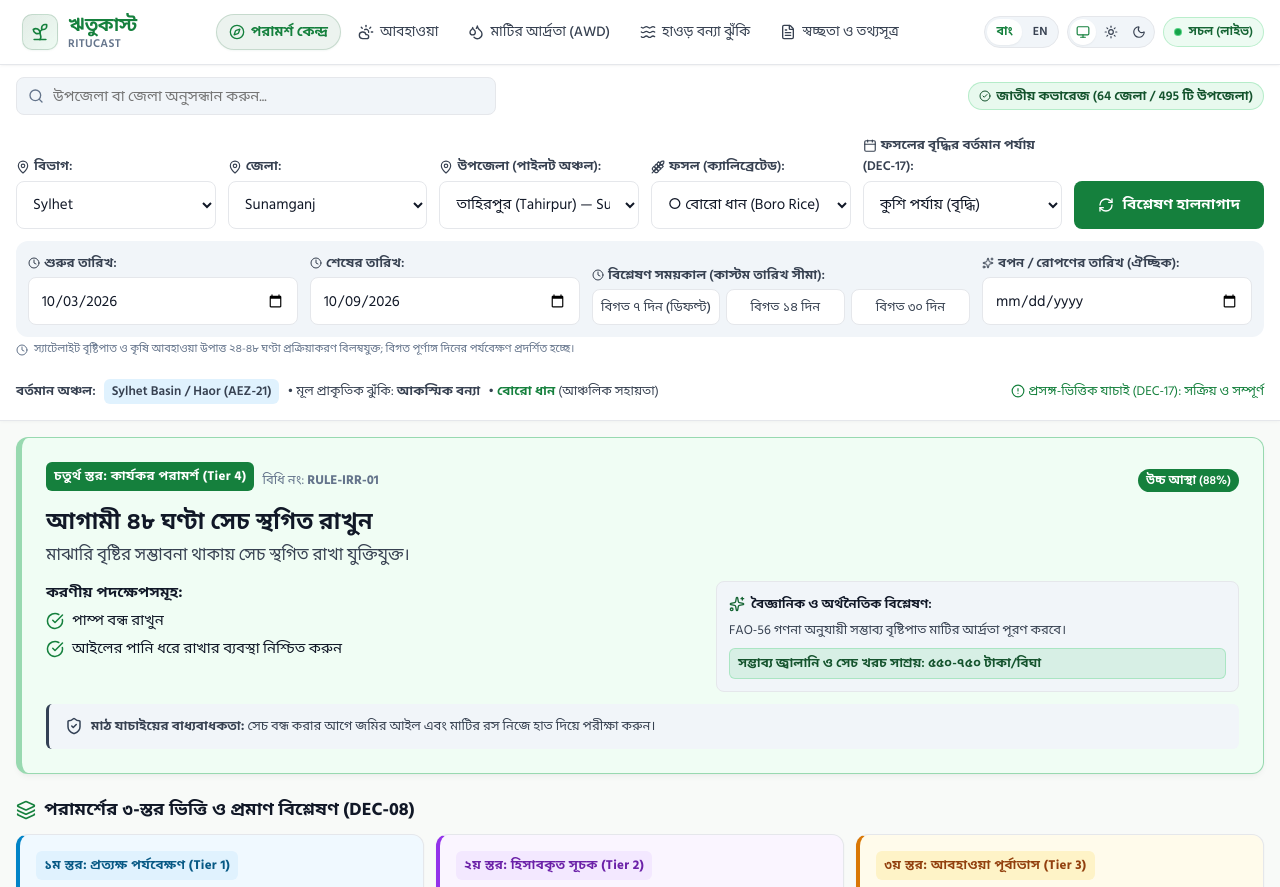
Test: Phase 16: User Acceptance, Usability, and Field Readiness Test Suite › Journey D: displays AWD perched water table and soil water deficit in Water Balance tab
Expected: the heading "আগামী ৪৮ ঘণ্টা সেচ স্থগিত রাখুন" is shown, x1=46 y1=503 x2=373 y2=541
Click the button "মাটির আর্দ্রতা (AWD)". click: point(539, 32)
box: x1=455 y1=14 x2=623 y2=50
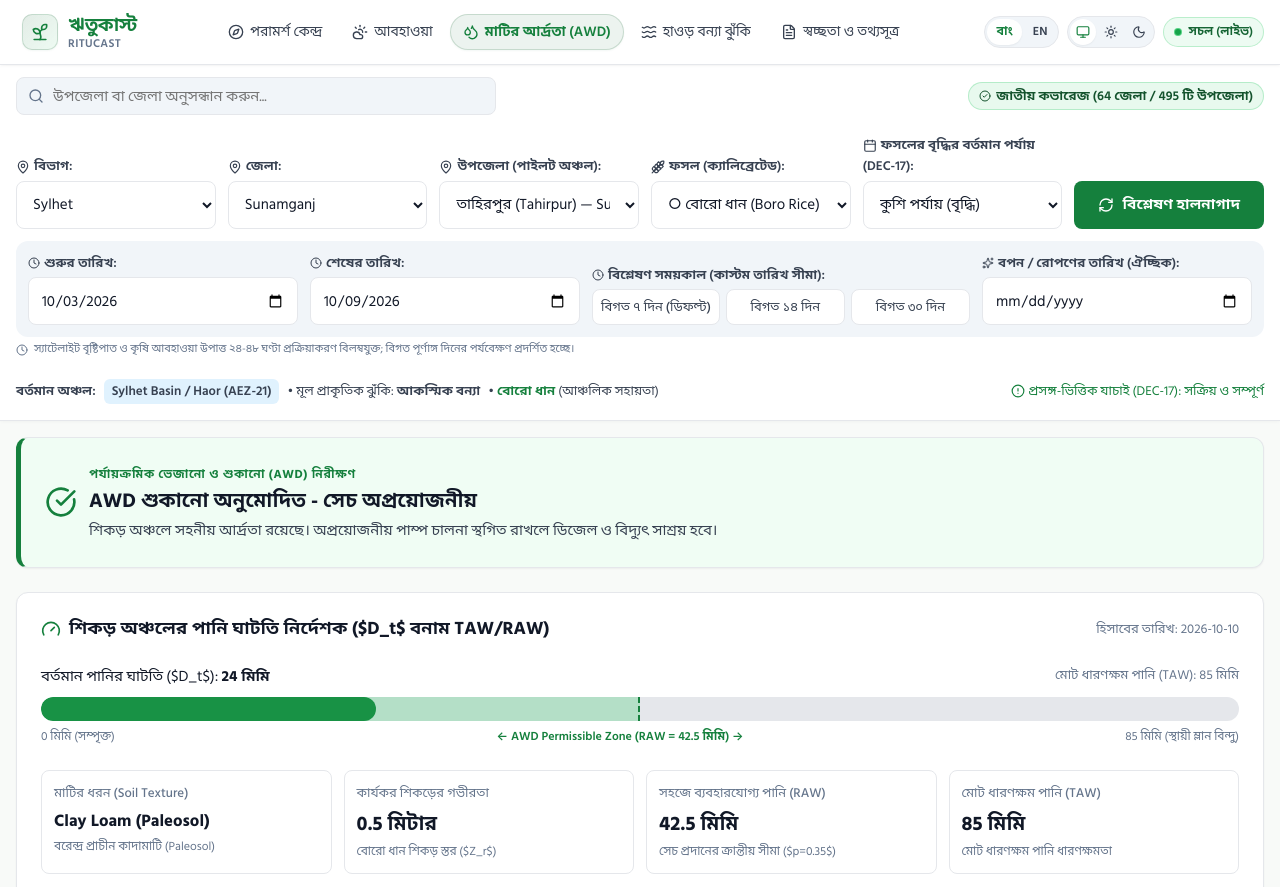
Expected: the text "24 মিমি" is shown, x1=222 y1=664 x2=270 y2=689
Expected: the text "শিকড় অঞ্চলের পানি ঘাটতি নির্দেশক ($D_t$ বনাম TAW/RAW)" is shown, x1=69 y1=617 x2=550 y2=641
Expected: the heading "AWD শুকানো অনুমোদিত - সেচ অপ্রয়োজনীয়" is shown, x1=89 y1=485 x2=477 y2=517
